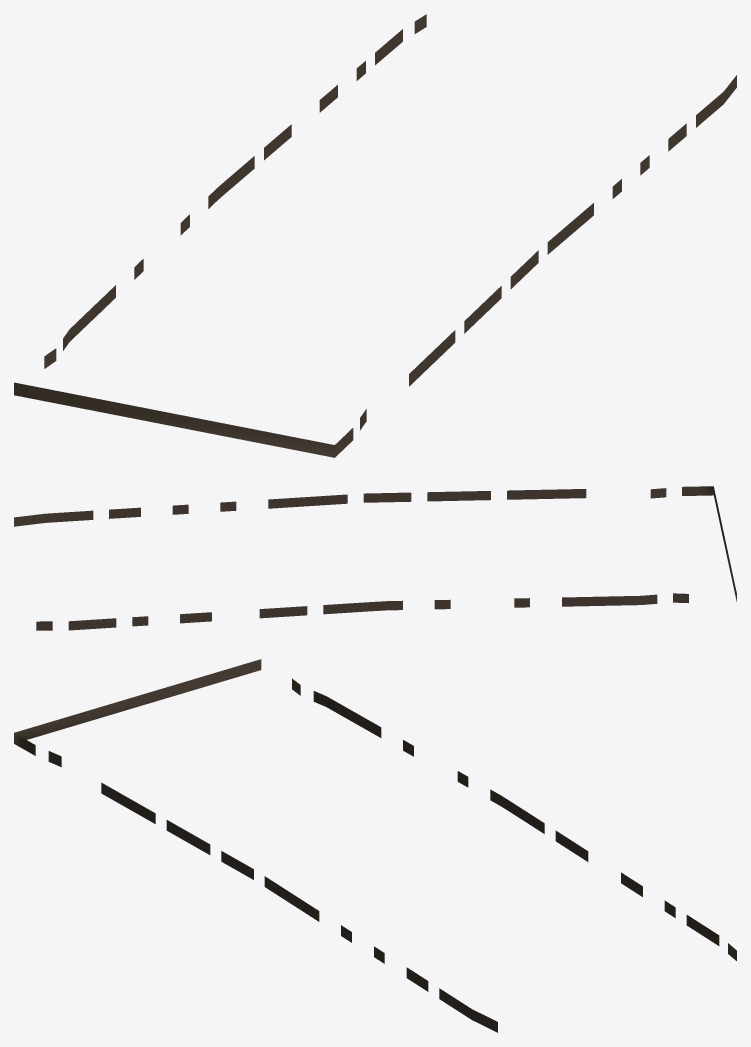
3 renders of one model, top to bottom at view 1: azimuth 30°, elevation 25°; view 2: azimuth 150°, elevation 25°; view 3: azimuth 270°, elevation 25°, orthographic. The views are drawn at different scales.
Parts seen in each view (by area): view 1: prototype; view 2: prototype; view 3: prototype.
Boxes of the visible parts, <box> form: prototype: <box>14,14,736,457</box>; prototype: <box>14,486,736,630</box>; prototype: <box>14,659,736,1032</box>.
Size of the model in its own units: 22.51 by 0.6188 by 19.11.
